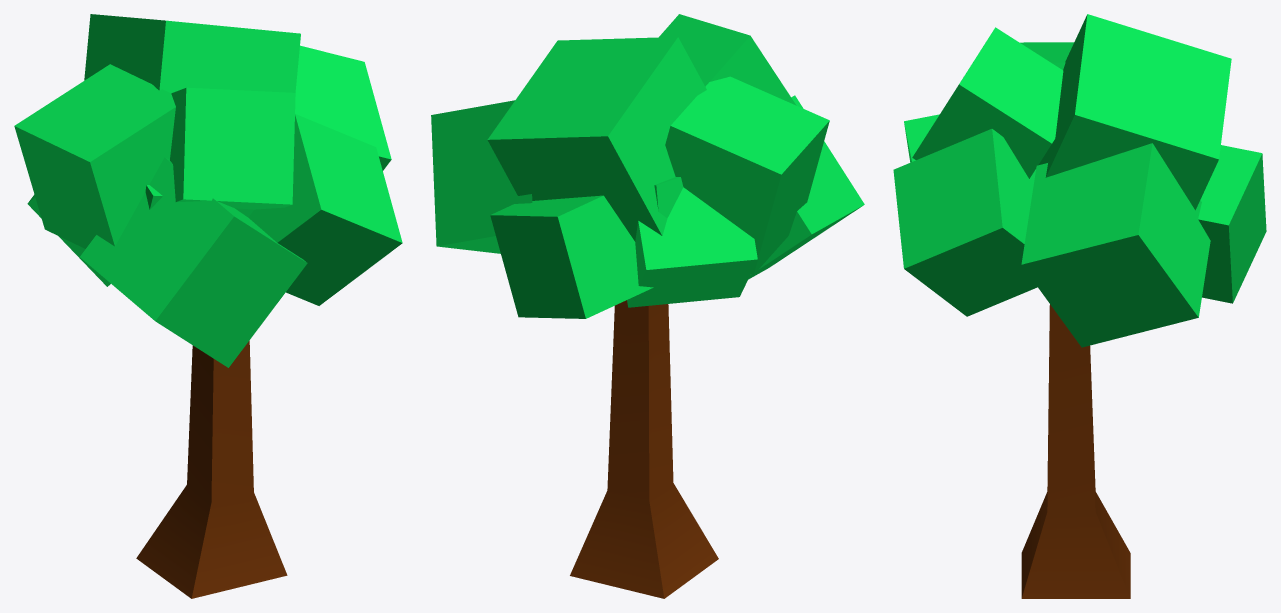
Rendered from LowerPolyTree.fbx.
3 renders of one model, left to right at view 1: azimuth 30°, elevation 25°; view 2: azimuth 150°, elevation 25°; view 3: azimuth 270°, elevation 25°, orthographic.
Parts seen in each view (by area): view 1: pCube13; view 2: pCube13; view 3: pCube13.
Boxes of the visible parts, left/top/right/bottom form: pCube13: left=14, top=14, right=402, bottom=598; pCube13: left=431, top=14, right=864, bottom=598; pCube13: left=893, top=14, right=1266, bottom=598.
Bounding box in the file's own units: 0.0673 × 0.1006 × 0.0627.
